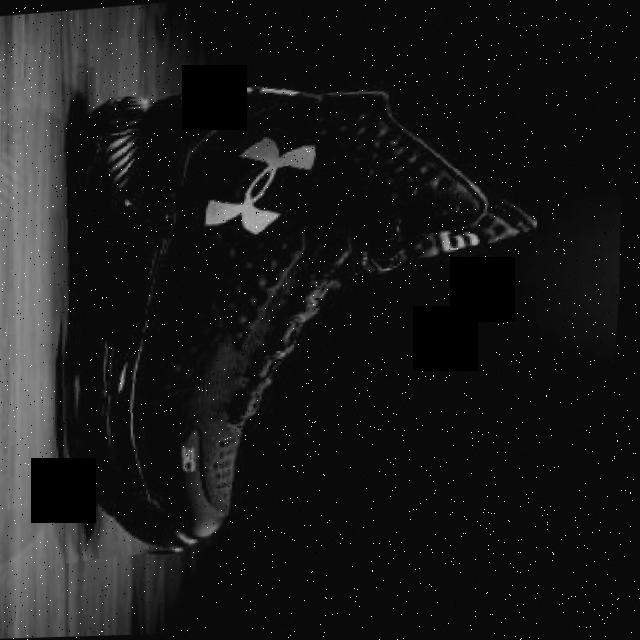shoe: (35, 66, 565, 565)
